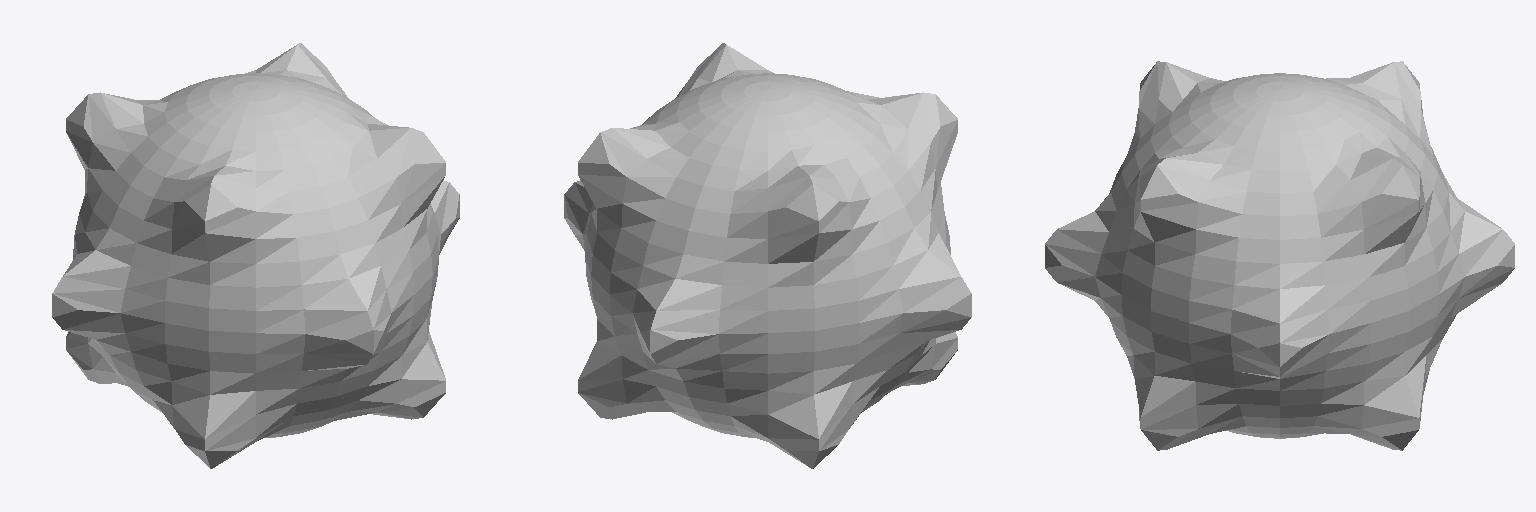
Rendered from katamaran.obj.
The picture shows the model from 3 angles: view 1: azimuth 30°, elevation 25°; view 2: azimuth 150°, elevation 25°; view 3: azimuth 270°, elevation 25°; orthographic projection.
Parts seen in each view (by area): view 1: pSphere1; view 2: pSphere1; view 3: pSphere1.
Part boxes in pixels (x1,y1,x2,y2): pSphere1: (52, 43, 459, 468); pSphere1: (564, 43, 971, 468); pSphere1: (1045, 61, 1514, 450).
Bounding box in the file's own units: 2.57 × 2 × 2.57.